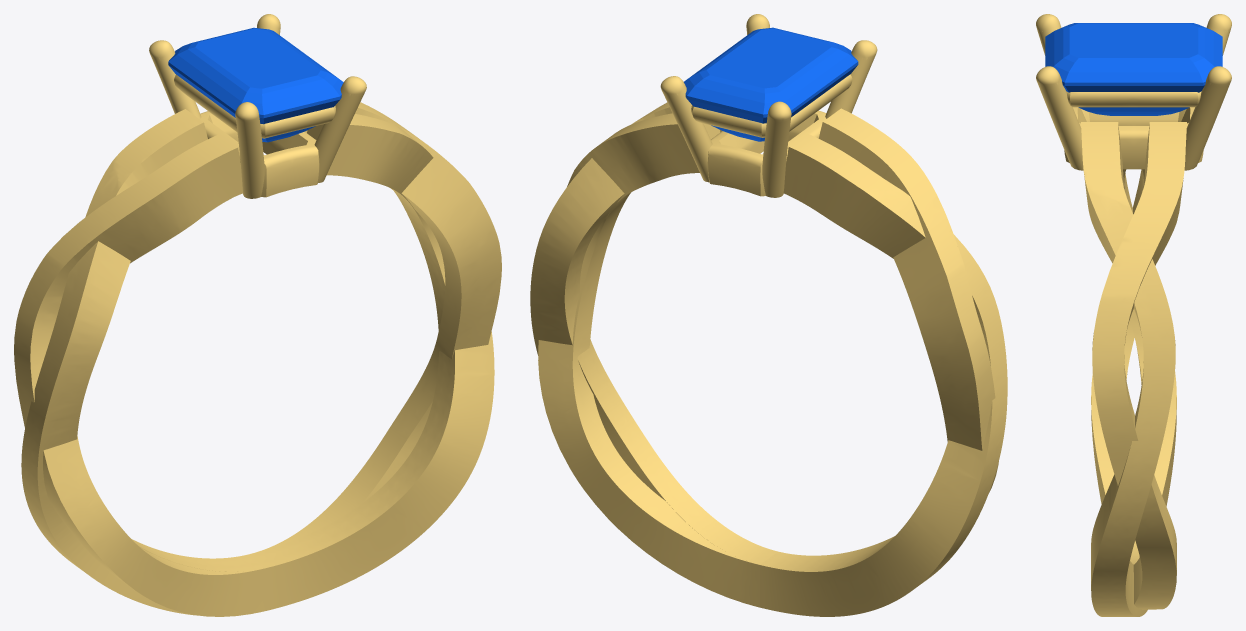
File: bluesapphire-emerald-yellowgold-4prong-twist-nosidestones.glb
3 views of the same model, side by side, from view 1: azimuth 30°, elevation 25°; view 2: azimuth 150°, elevation 25°; view 3: azimuth 270°, elevation 25° (orthographic).
Parts seen in each view (by area): view 1: metal, stone; view 2: metal, stone; view 3: metal, stone.
Part boxes in pixels (bbox=[...]): metal: bbox=[14, 14, 501, 616]; stone: bbox=[168, 27, 343, 142]; metal: bbox=[530, 14, 1007, 616]; stone: bbox=[684, 27, 858, 141]; metal: bbox=[1036, 14, 1231, 616]; stone: bbox=[1045, 23, 1222, 115].
Size of the model in its own units: 19.97 by 22.85 by 7.4.
